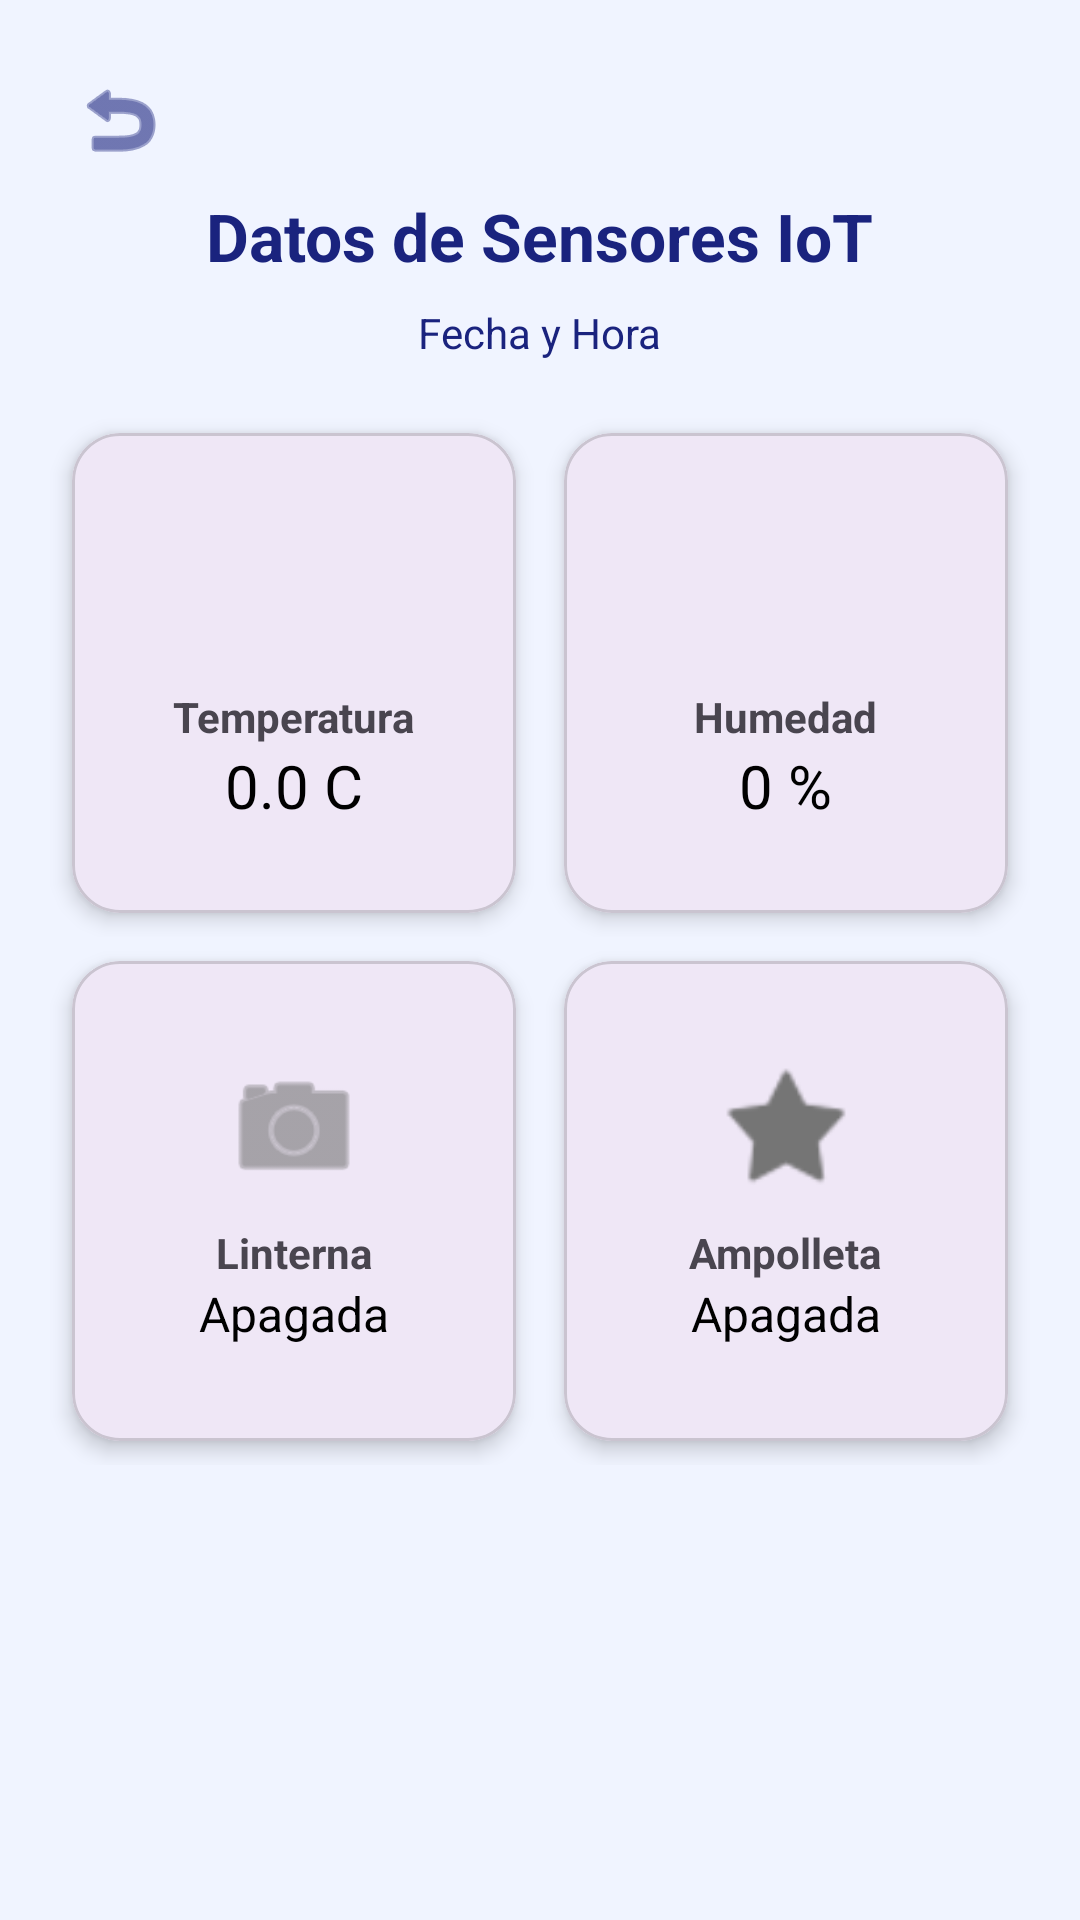

Named icons in this screenshot (1080px×1920px) and their bounding boxes, (x1, y1, x2, y2):
Volver: (87, 89, 156, 152)
